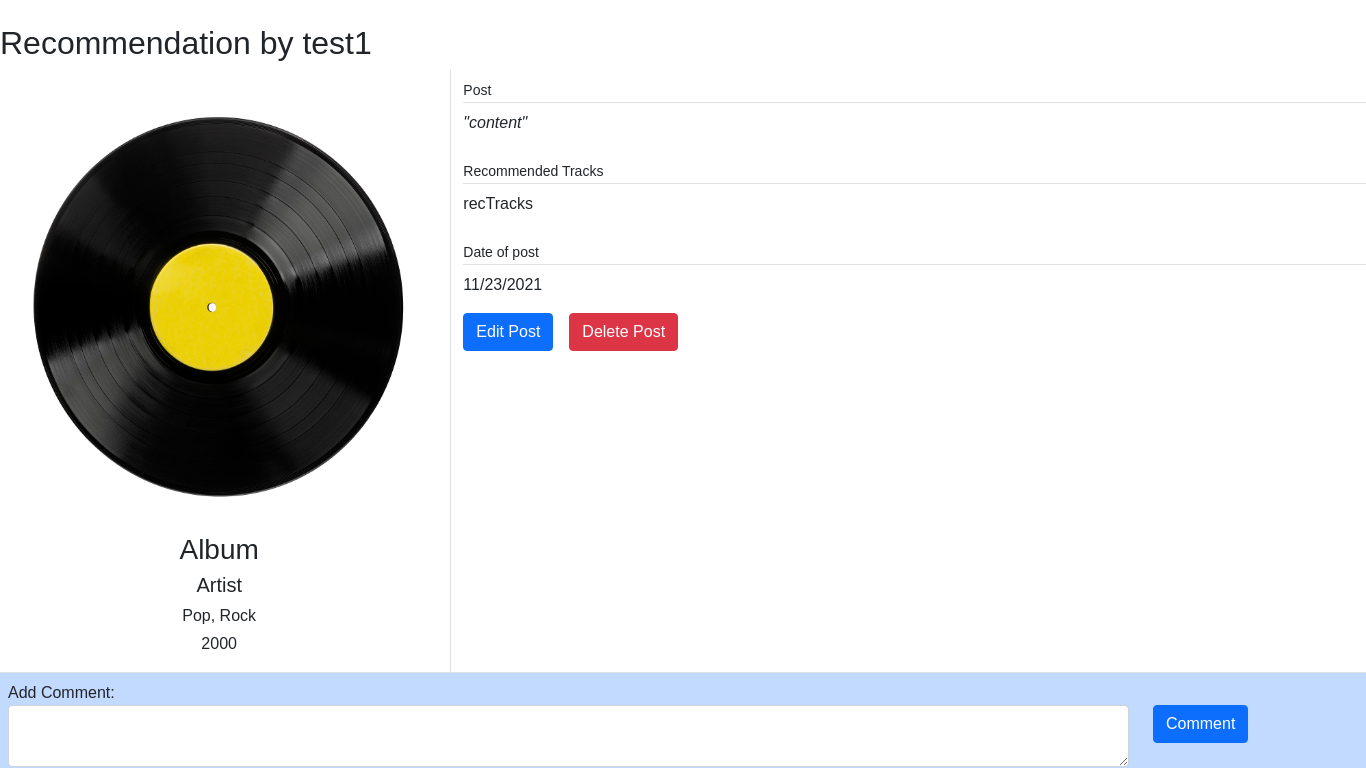
Test: ClubPostContainer › Allows member to add comment
Type "new comment" into the text box labelled "Add Comment:". click: (568, 736)
box: [8,705,1129,767]
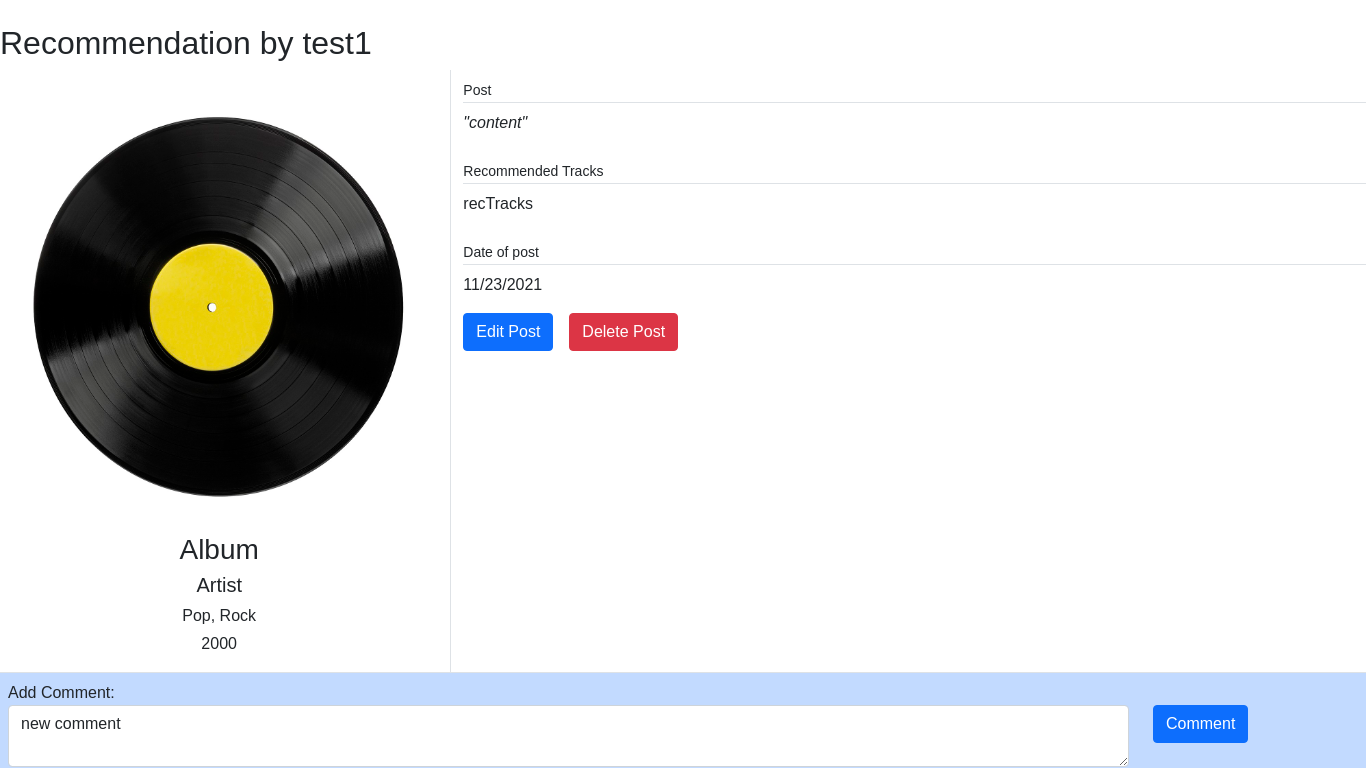
Click the button "Comment". click: (1201, 724)
box: [1153,705,1248,743]
(page scrolled)
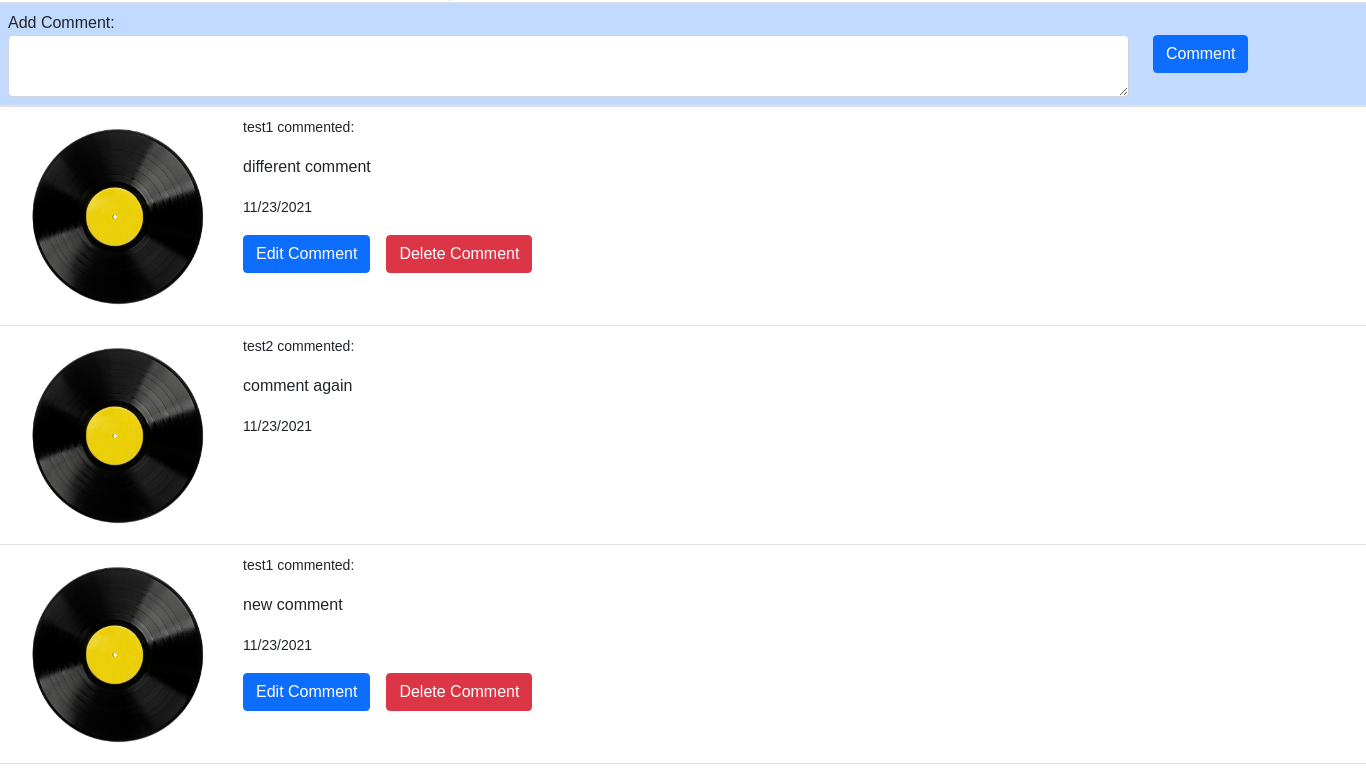
Now the text "new comment" is shown, box [243,596,343,613]
